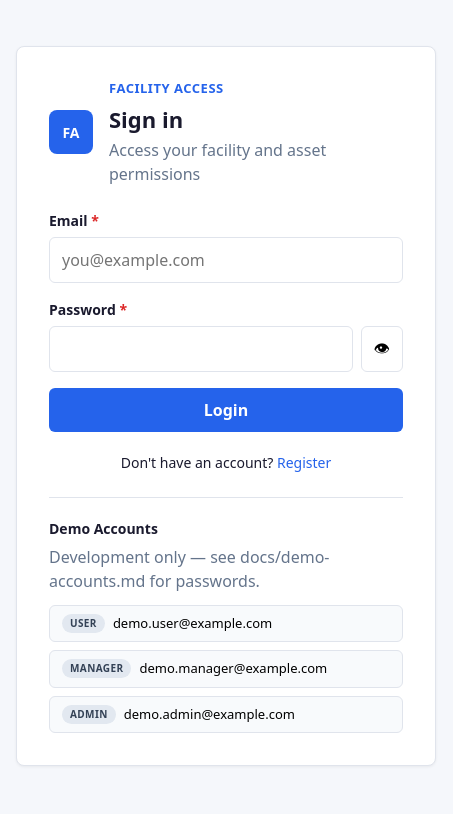
Scenario: Authentication › failed login displays safe message
Type "user@example.com" into the field labelled "Email *" at point(226, 260), box [49,236,403,282]
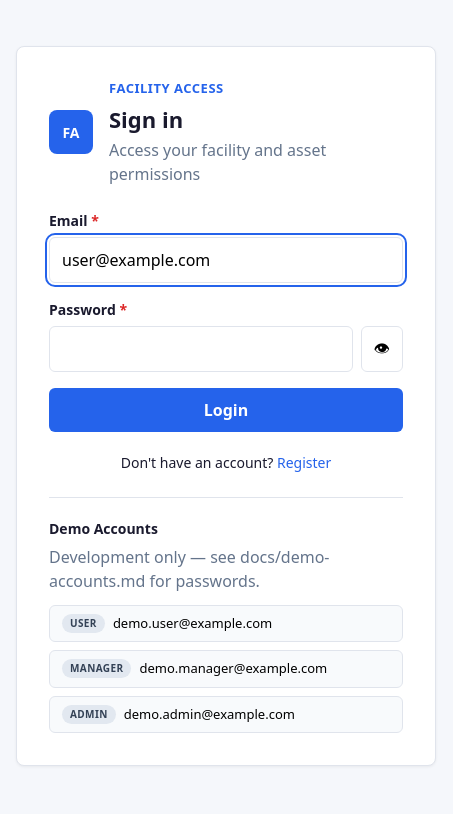
Type "wrong" into the password field labelled "Password *" at point(201, 348), box [49,326,353,372]
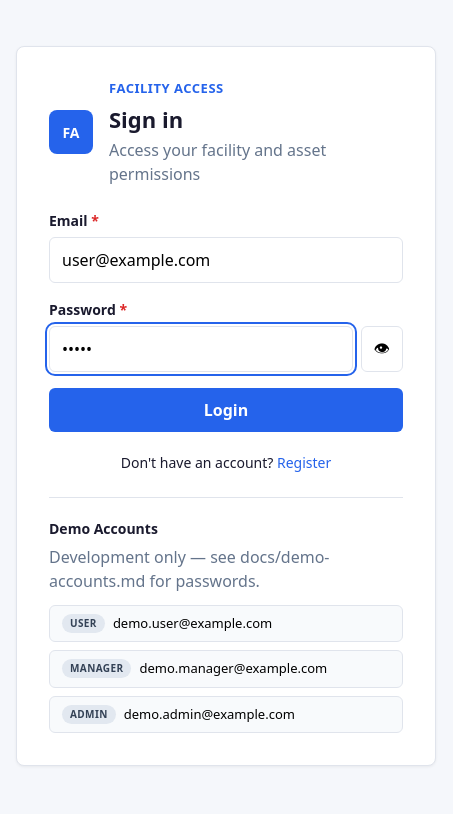
Click the button "Login" at point(226, 410), box [49,388,403,432]
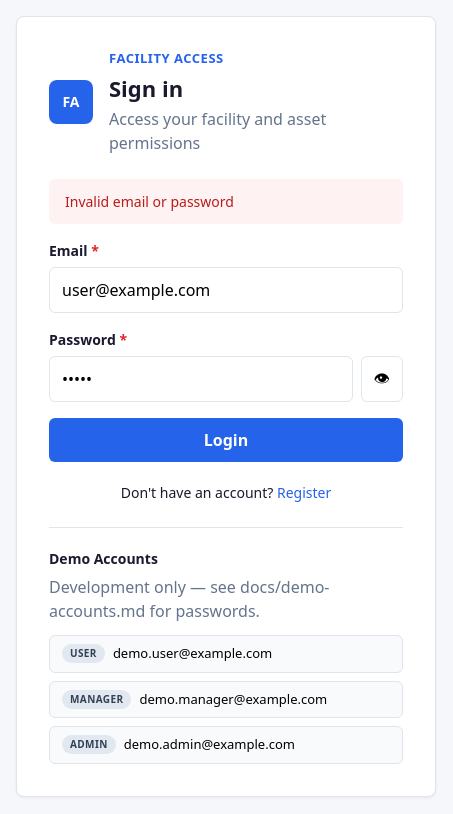
Expected: the text "Invalid email or password" is shown, [49,179,403,224]
